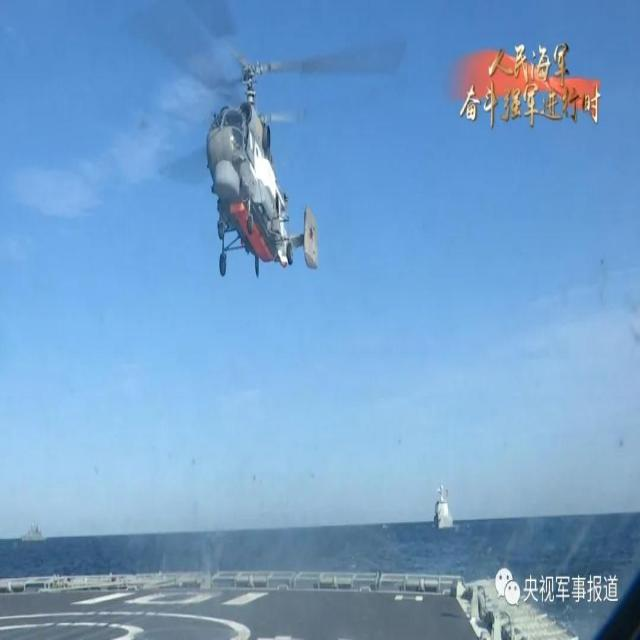MIL_HELO: (182, 24, 386, 300)
